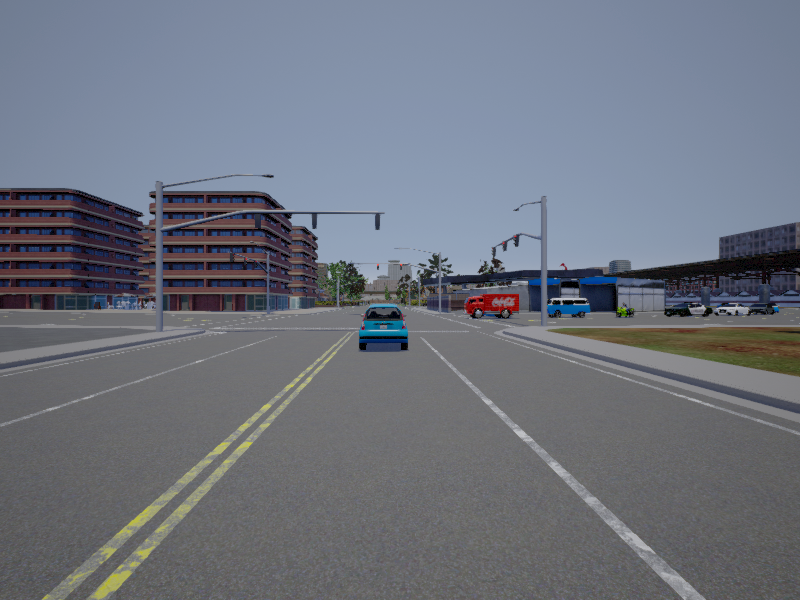Benign: (362, 306, 409, 351), (465, 294, 521, 318), (546, 296, 591, 320), (665, 301, 713, 318), (715, 300, 749, 315), (750, 301, 773, 318)
